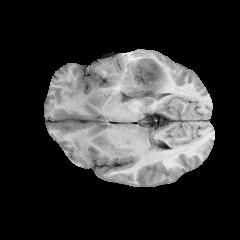glioma: (111, 53, 167, 98)
